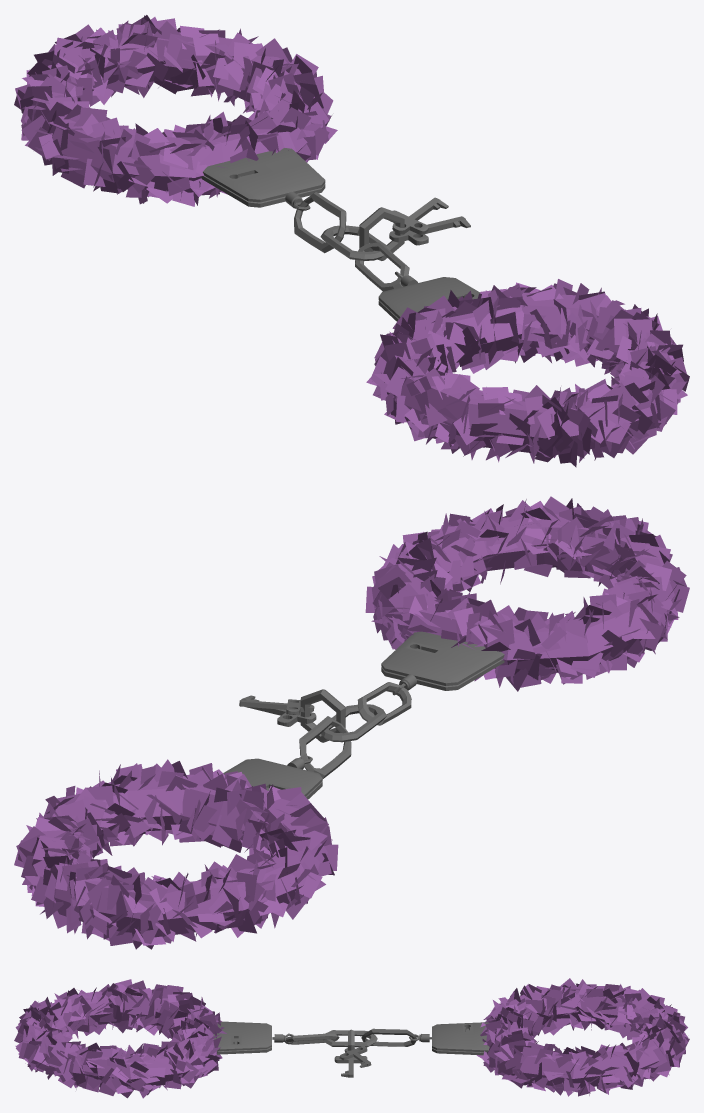
File: esposas.fbx
3 renders of one model, top to bottom at view 1: azimuth 30°, elevation 25°; view 2: azimuth 150°, elevation 25°; view 3: azimuth 270°, elevation 25°, orthographic. The views are drawn at different scales.
Parts seen in each view (by area): view 1: Esposa.001, Esposa, Agarrador, Agarrador.001, cadena3, cadena2, Cadena1, Argolla, LLave 1, Llave2; view 2: Esposa.001, Esposa, Agarrador.001, Agarrador, cadena3, Cadena1, cadena2, Argolla; view 3: Esposa, Esposa.001, Agarrador, Agarrador.001, cadena3, cadena2, Cadena1, Llave2, LLave 1.
Boxes of the visible parts, x1,y1,x2,y2 form: Esposa.001: (374, 292, 676, 455); Esposa: (27, 32, 329, 192); Agarrador: (201, 148, 325, 207); Agarrador.001: (378, 277, 480, 321); cadena3: (294, 192, 346, 253); cadena2: (320, 225, 390, 260); Cadena1: (355, 242, 409, 291); Argolla: (359, 207, 404, 260); LLave 1: (389, 216, 470, 245); Llave2: (390, 197, 448, 234); Esposa.001: (372, 512, 674, 674); Esposa: (31, 774, 327, 937); Agarrador.001: (381, 631, 504, 690); Agarrador: (223, 758, 322, 799); cadena3: (299, 716, 351, 778); Cadena1: (357, 682, 411, 725); cadena2: (321, 704, 386, 742); Argolla: (300, 689, 345, 742); Esposa: (487, 987, 676, 1087); Esposa.001: (29, 989, 216, 1086); Agarrador: (432, 1022, 489, 1055); Agarrador.001: (213, 1021, 271, 1054); cadena3: (361, 1028, 416, 1046); cadena2: (323, 1030, 377, 1047); Cadena1: (284, 1033, 339, 1044); Llave2: (340, 1046, 371, 1067); LLave 1: (334, 1056, 367, 1077).
Size of the model in its own units: 305 by 78.31 by 993.
